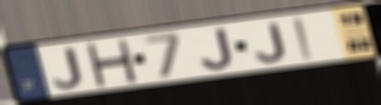7: (141, 30, 184, 80)
H: (83, 38, 139, 88)
I: (291, 16, 317, 62)
J: (199, 26, 237, 71), (254, 21, 290, 64), (51, 46, 85, 90)
